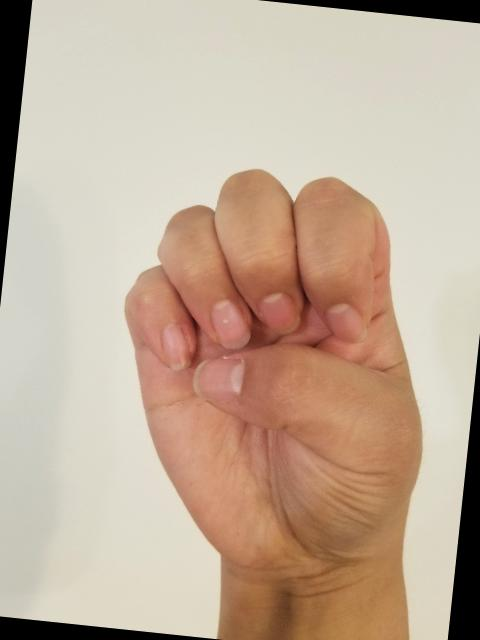E: (89, 149, 459, 605)
